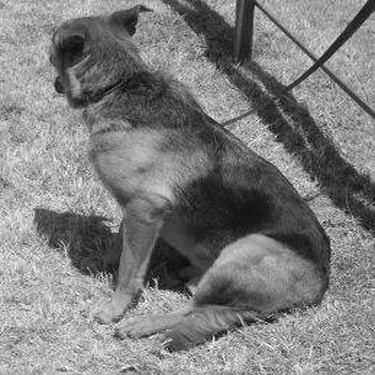dog: (34, 3, 336, 356)
